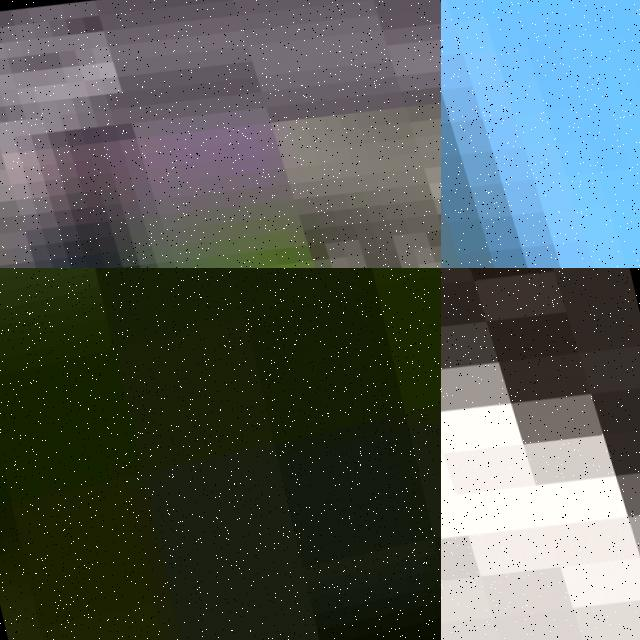0: (0, 0, 441, 268)
drone: (441, 268, 640, 640), (441, 0, 640, 268)
